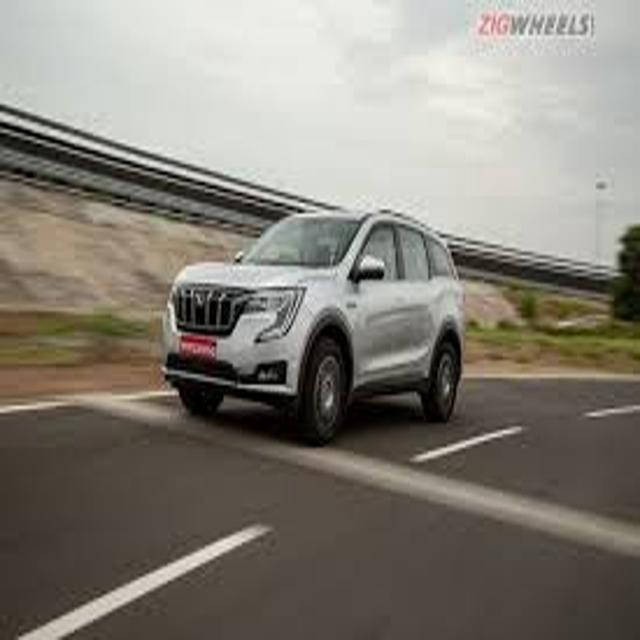car: (163, 210, 463, 445)
